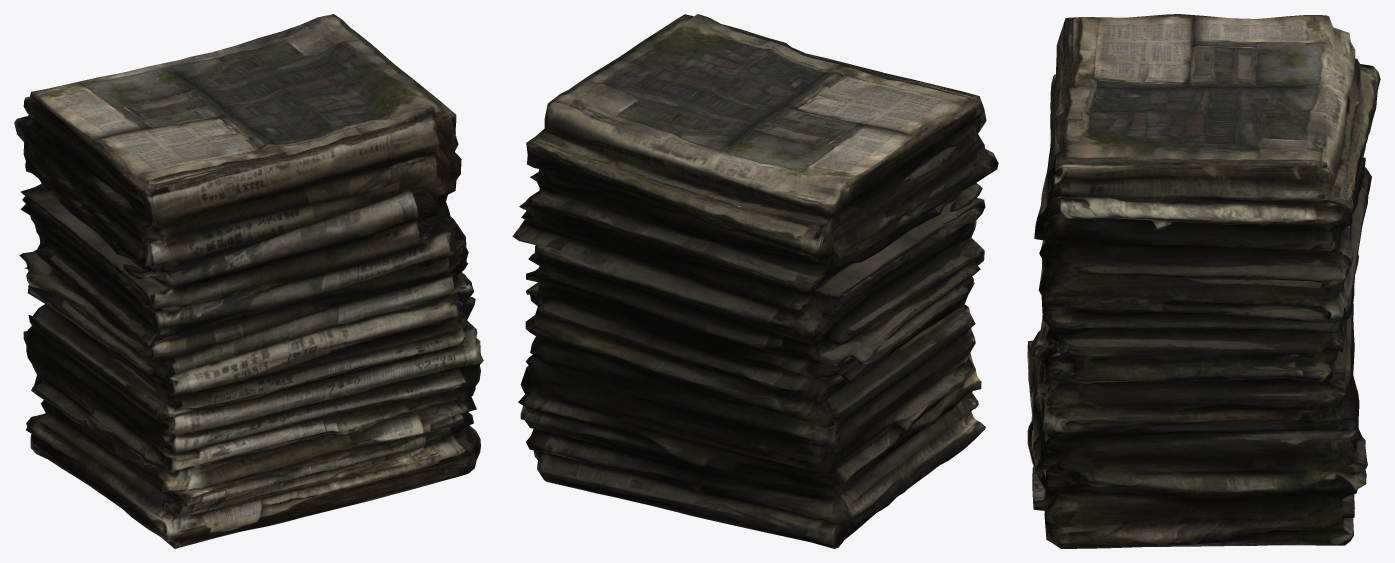
Rendered from Newspaper_stacks_A_da_0501132600_texture.fbx.
The picture shows the model from 3 angles, left to right: view 1: azimuth 30°, elevation 25°; view 2: azimuth 150°, elevation 25°; view 3: azimuth 270°, elevation 25°; orthographic projection. The views are drawn at different scales.
Parts seen in each view (by area): view 1: Mesh1; view 2: Mesh1; view 3: Mesh1.
Boxes of the visible parts, x1=… form: Mesh1: x1=14, y1=14, x2=483, y2=548; Mesh1: x1=512, y1=14, x2=998, y2=548; Mesh1: x1=1027, y1=14, x2=1380, y2=548.
Bounding box in the file's own units: 39.2 × 40 × 32.77.
Materials: 1 (1 with a texture image).
